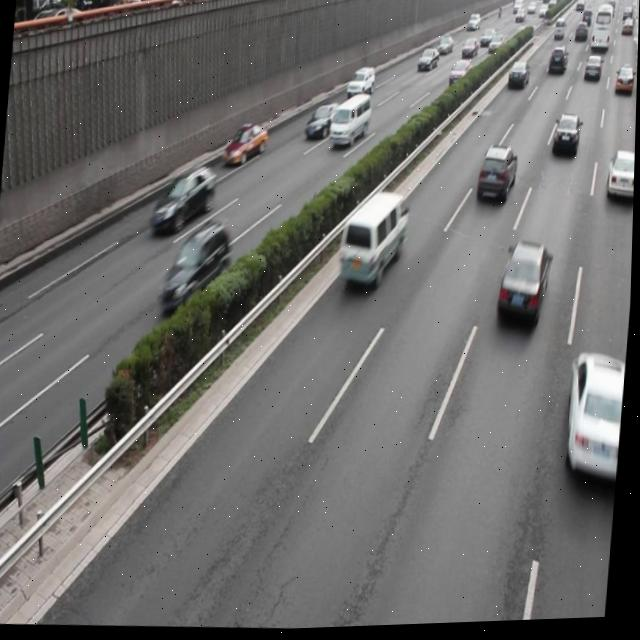car: (562, 351, 629, 489), (162, 219, 235, 317), (496, 240, 553, 329), (151, 164, 219, 236), (475, 147, 518, 208), (222, 123, 269, 167), (606, 152, 636, 205), (304, 103, 338, 142), (552, 116, 580, 161)
truck: (337, 189, 408, 292), (329, 93, 372, 150)
